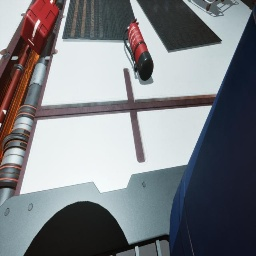FireExtinguisher ]: (123, 18, 154, 81)
FirstAidBox ,: (21, 0, 59, 56)
